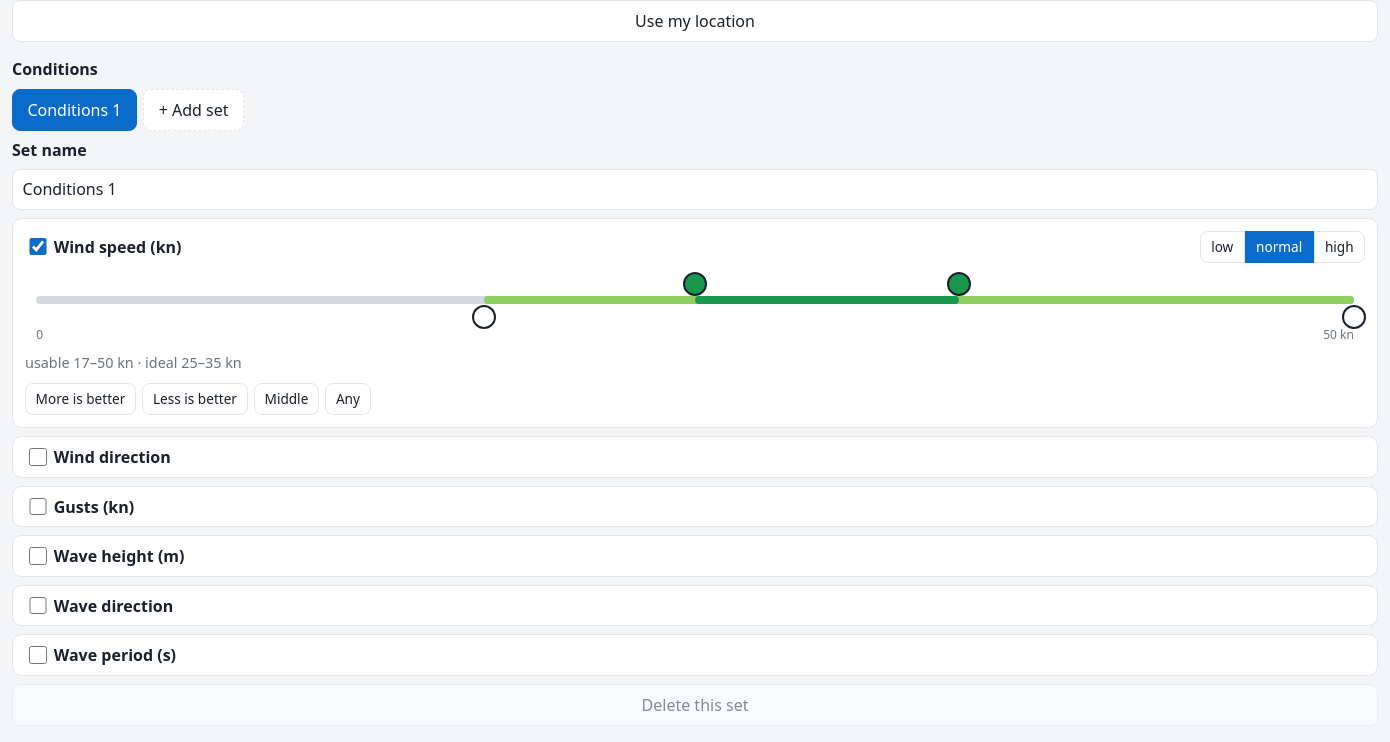
SpotEditor › asks where waves come from only once a wave factor is on
The width and height of the screenshot is (1390, 742).
(page scrolled)
Expected: the element "Waves from" is not shown
Click the checkbox labelled "Wave height (m)".
click(38, 556)  # box [29, 547, 47, 565]
(page scrolled)
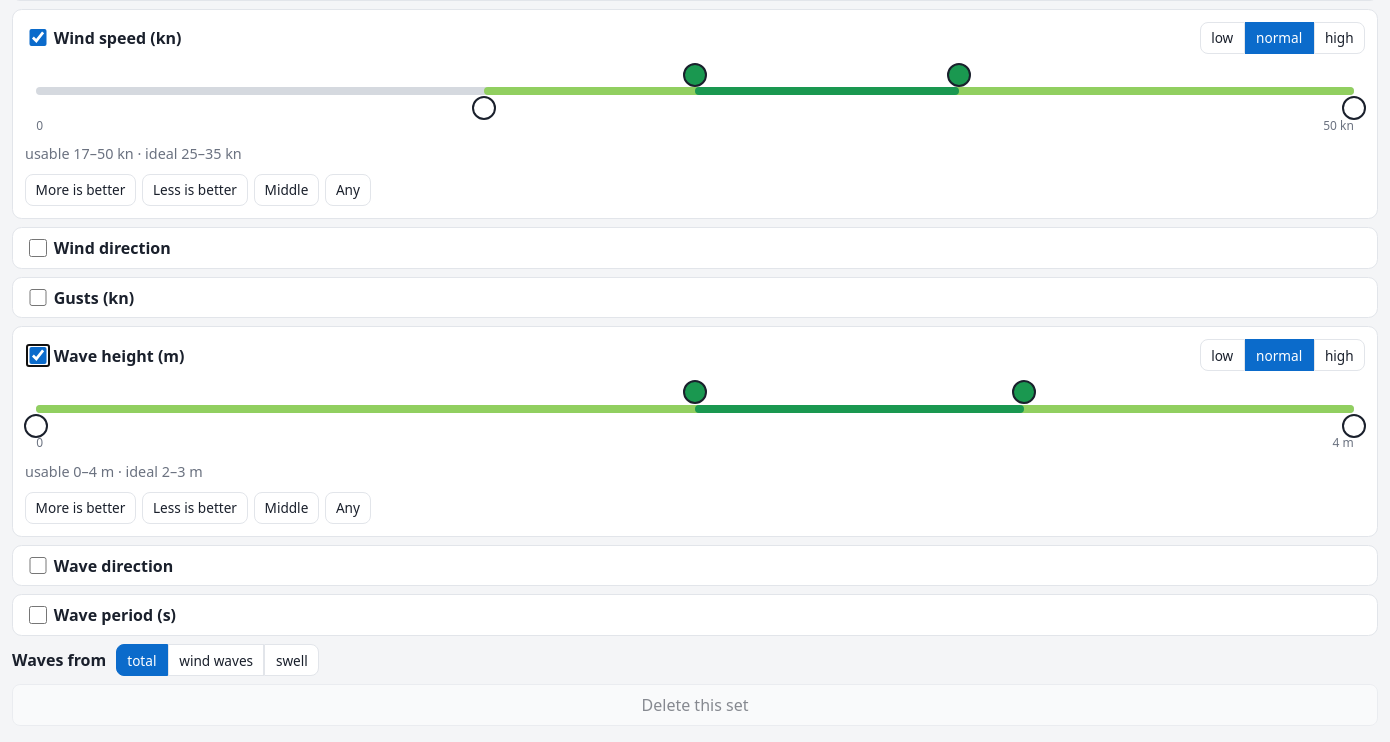
Result: the element "Waves from" is shown at [12, 644, 319, 676]
